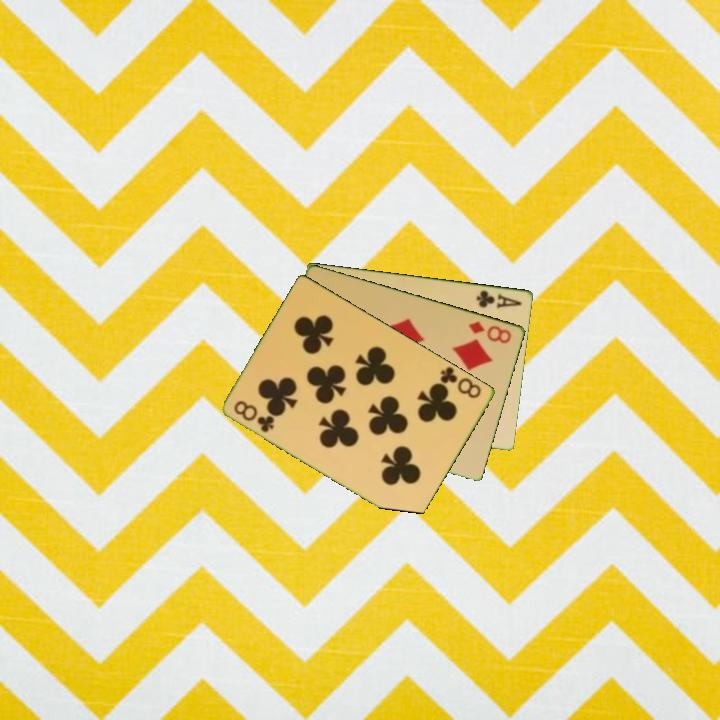8c: (435, 363, 485, 401), (230, 397, 278, 435)
8d: (465, 317, 515, 346)
Ac: (473, 287, 525, 311)
